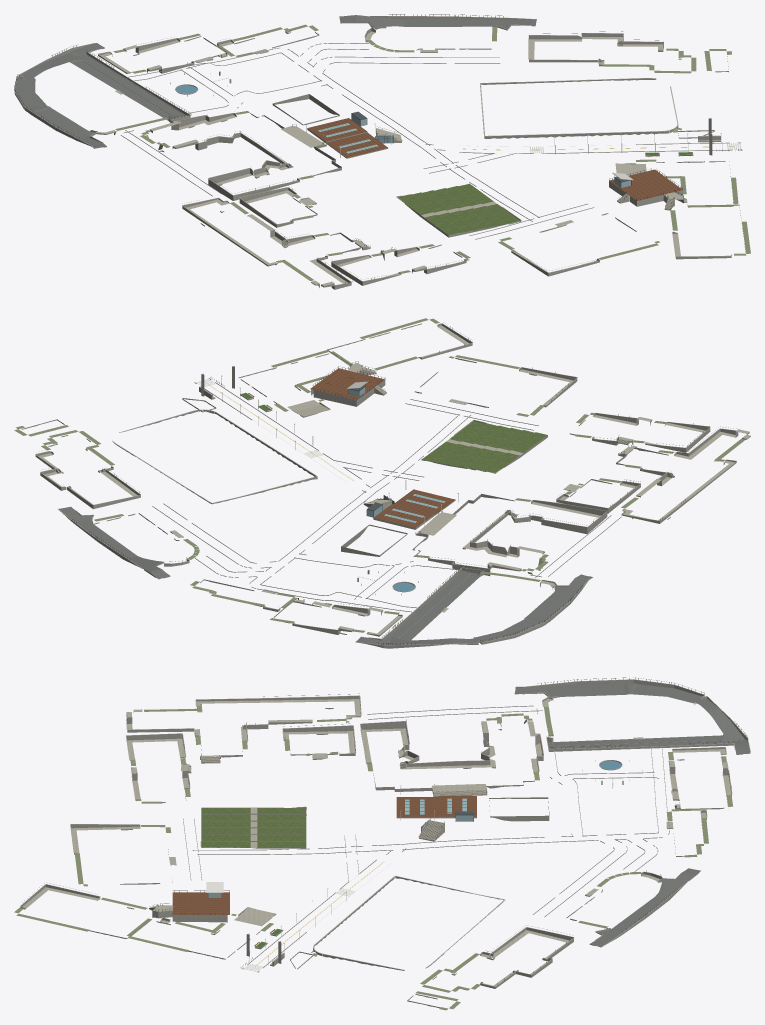
3 renders of one model, top to bottom at view 1: azimuth 30°, elevation 25°; view 2: azimuth 150°, elevation 25°; view 3: azimuth 270°, elevation 25°, orthographic.
Parts seen in each view (by area): view 1: site-stonebank-2s, site-placePaving-2s (×2), site-asphalt-2s, site-berm, site-lawn-2s, site-granitePaving-2s, site-deck-2s, site-concrete, site-cap, rail; view 2: site-stonebank-2s, site-placePaving-2s (×2), site-asphalt-2s, site-berm, site-lawn-2s, site-granitePaving-2s, site-deck-2s, site-concrete; view 3: site-placePaving-2s (×2), site-stonebank-2s, site-asphalt-2s, site-lawn-2s, site-berm, site-granitePaving-2s, site-deck-2s, site-concrete.
Part boxes in pixels (x1,y1,x2,y2): site-stonebank-2s: (14,16,731,289); site-placePaving-2s (×2): (14,16,732,286); site-asphalt-2s: (15,15,536,148); site-berm: (113,24,750,280); site-lawn-2s: (398,183,519,235); site-granitePaving-2s: (82,43,742,239); site-deck-2s: (307,118,682,200); site-concrete: (133,32,745,257); site-cap: (480,78,678,136); rail: (14,14,683,251); site-stonebank-2s: (35,323,750,648); site-placePaving-2s (×2): (35,323,750,645); site-asphalt-2s: (59,506,591,644); site-berm: (14,318,745,632); site-lawn-2s: (422,421,547,472); site-granitePaving-2s: (152,378,621,640); site-deck-2s: (310,368,455,527); site-concrete: (21,323,674,634); site-placePaving-2s (×2): (20,679,750,986); site-stonebank-2s: (20,679,750,988); site-asphalt-2s: (515,683,750,946); site-lawn-2s: (201,808,306,847); site-berm: (14,706,733,1010); site-granitePaving-2s: (183,705,722,972); site-deck-2s: (172,796,476,914); site-concrete: (83,708,727,1008).
Bounding box in the file's own units: 340 × 17.39 × 348.
22 materials, 6 textured.
